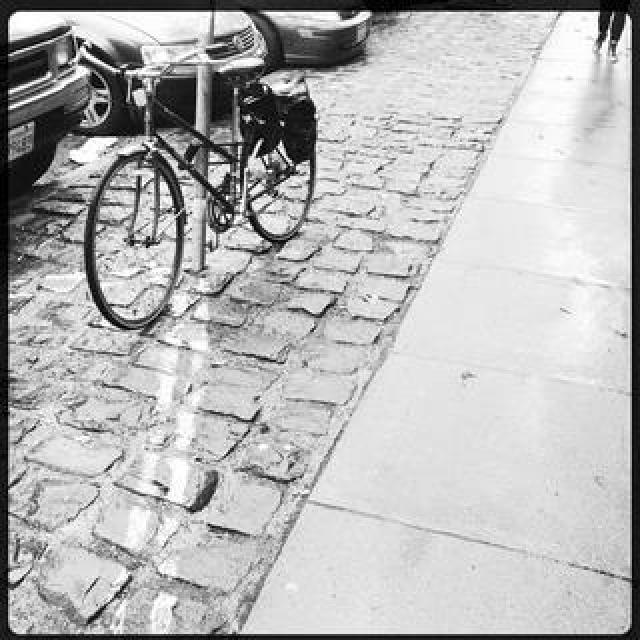Person: (80, 28, 320, 332)
